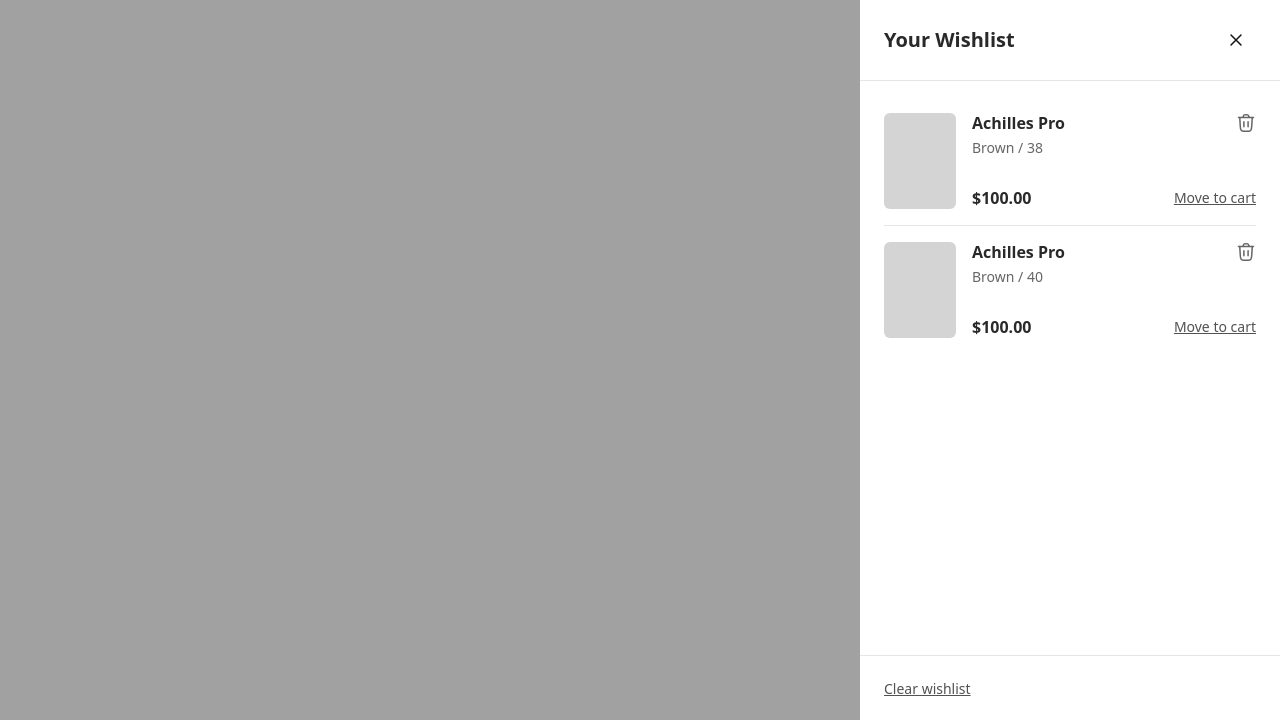
Scenario: WishlistButton and WishlistDrawer › clears the whole wishlist
Click the button "Clear wishlist" at (927, 689), box [884,681,971,698]
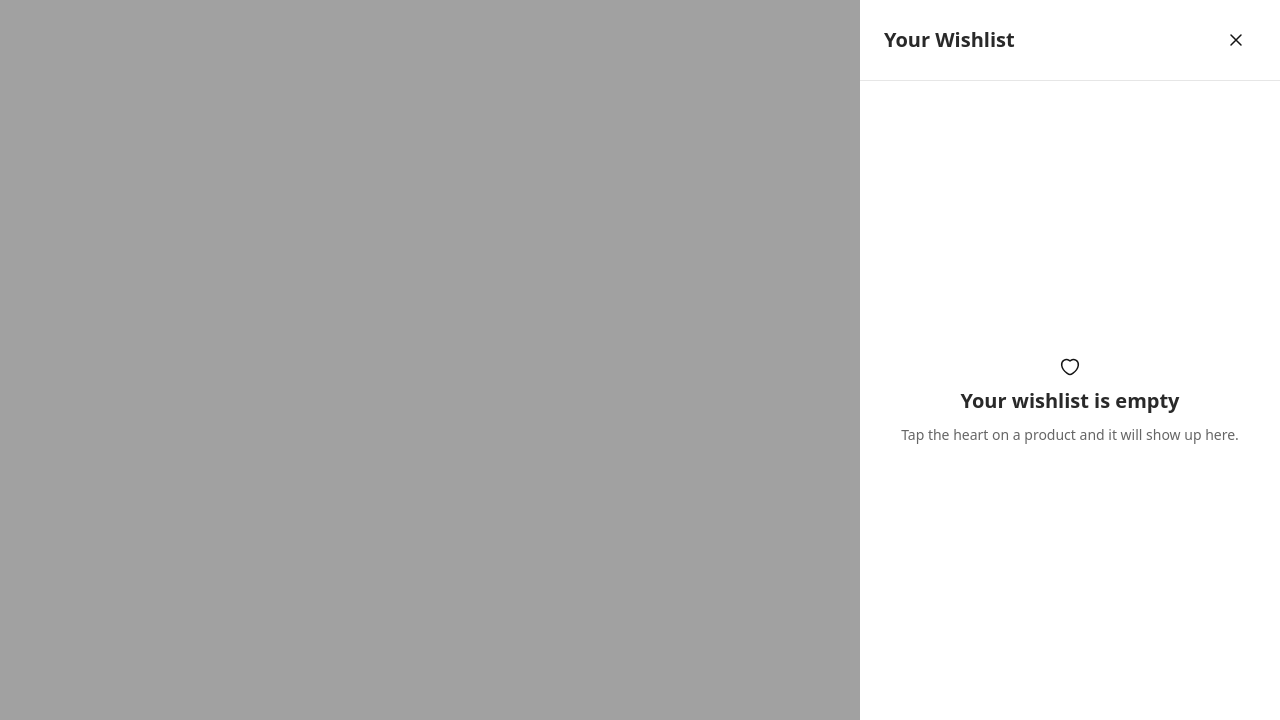
Expected: the text "Your wishlist is empty" is shown, [960,388,1180,412]
Expected: the button "Clear wishlist" is gone
